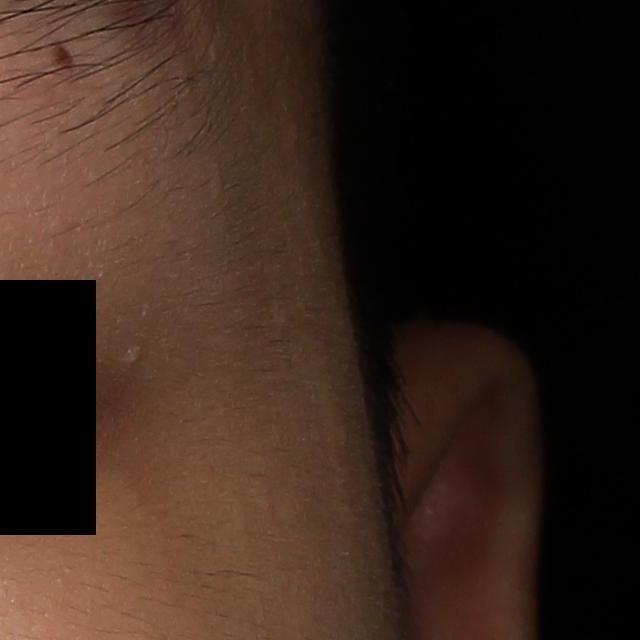nevus: (51, 37, 78, 74)
